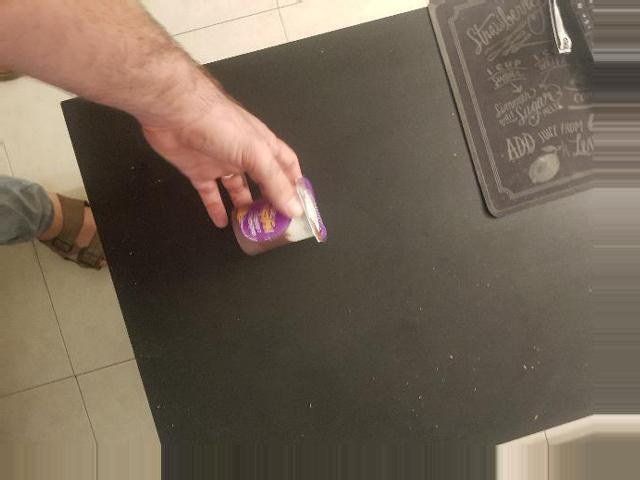milky: (320, 261, 410, 381)
